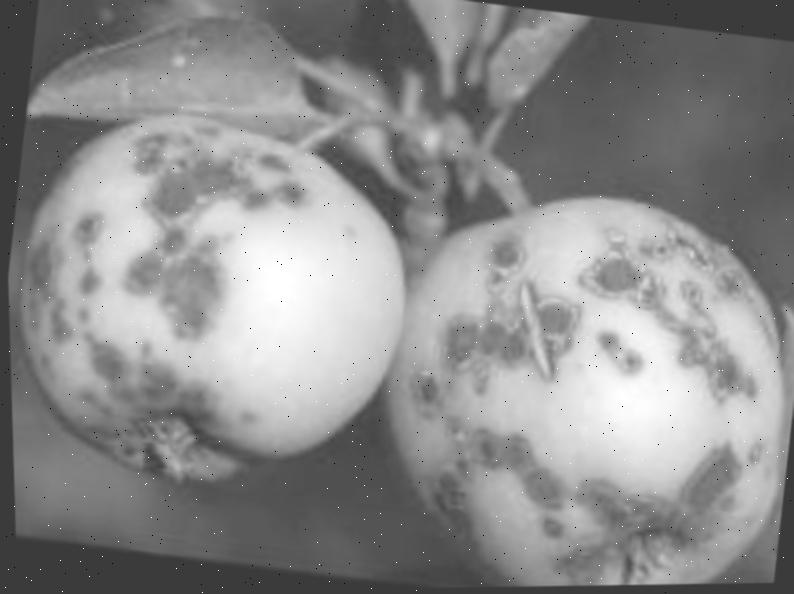SCAB: (380, 99, 794, 588), (2, 57, 436, 521)
